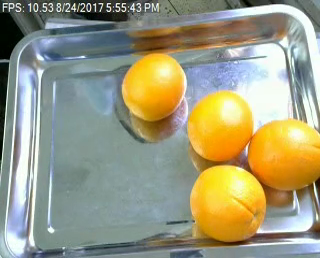Orange: (190, 164, 267, 242), (248, 118, 320, 191), (186, 90, 254, 160), (121, 52, 186, 120)
